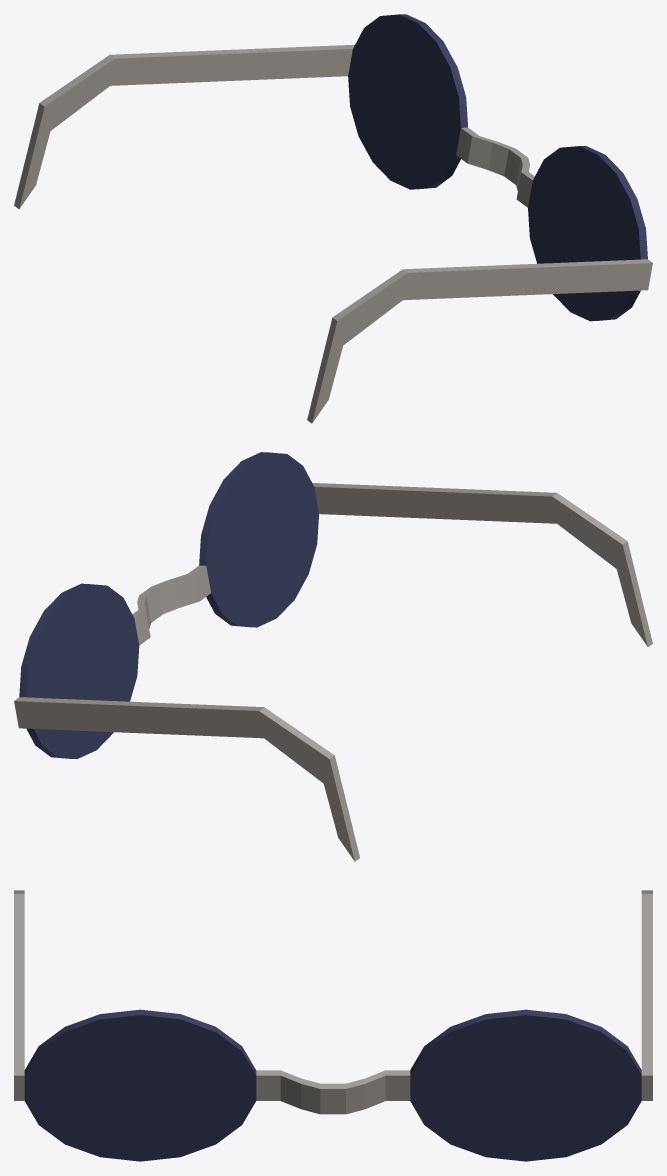
File: Infinite_Glasses.fbx
The picture shows the model from 3 angles, top to bottom: view 1: azimuth 30°, elevation 25°; view 2: azimuth 150°, elevation 25°; view 3: azimuth 270°, elevation 25°; orthographic projection. The views are drawn at different scales.
Parts seen in each view (by area): view 1: Cylinder001; view 2: Cylinder001; view 3: Cylinder001.
Part boxes in pixels (x1,y1,x2,y2): Cylinder001: (14,14,652,423); Cylinder001: (14,452,652,861); Cylinder001: (14,890,652,1161).
Bounding box in the file's own units: 26.73 × 10.8 × 38.43.
Materials: 1 (1 with a texture image).
